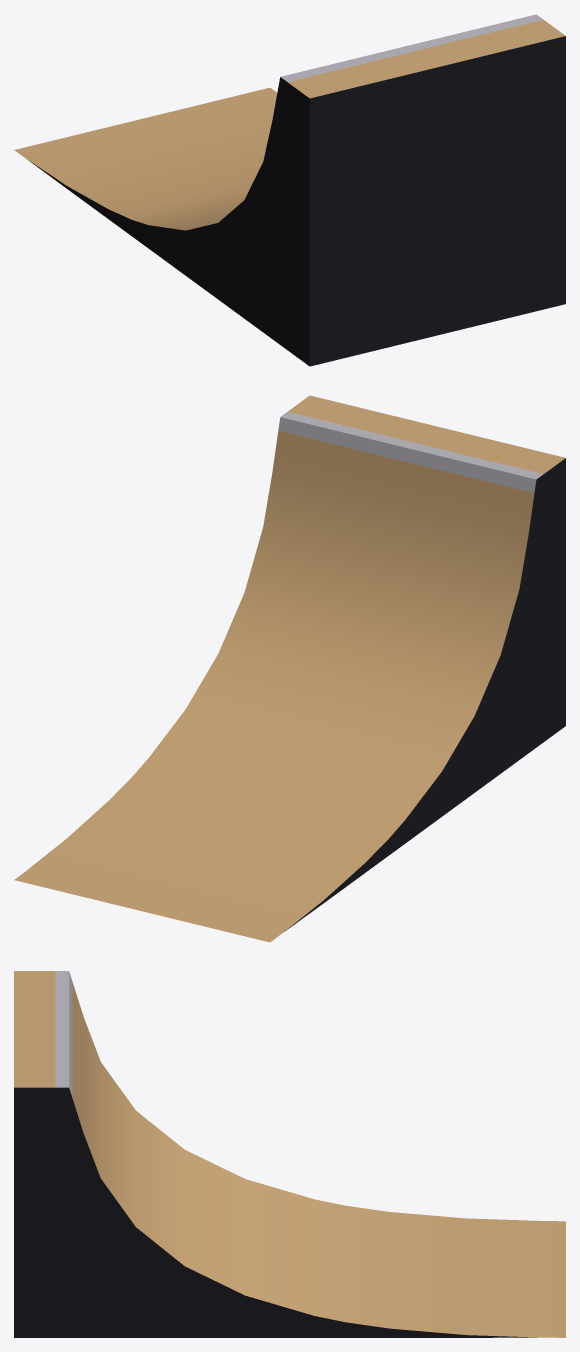
Rendered from Quater_LRG_Straight_Half.fbx.
3 views of the same model, one above another, from view 1: azimuth 30°, elevation 25°; view 2: azimuth 150°, elevation 25°; view 3: azimuth 270°, elevation 25° (orthographic). The views are drawn at different scales.
Parts seen in each view (by area): view 1: Quater_LRG_Straight_Half; view 2: Quater_LRG_Straight_Half; view 3: Quater_LRG_Straight_Half.
Part boxes in pixels (left/top/right/bottom): Quater_LRG_Straight_Half: left=14, top=14, right=565, bottom=366; Quater_LRG_Straight_Half: left=14, top=395, right=565, bottom=942; Quater_LRG_Straight_Half: left=14, top=971, right=565, bottom=1337.
Size of the model in its own units: 10 by 10 by 20.
